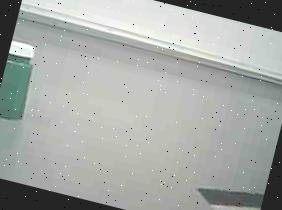Bottle C: (0, 31, 59, 139)
